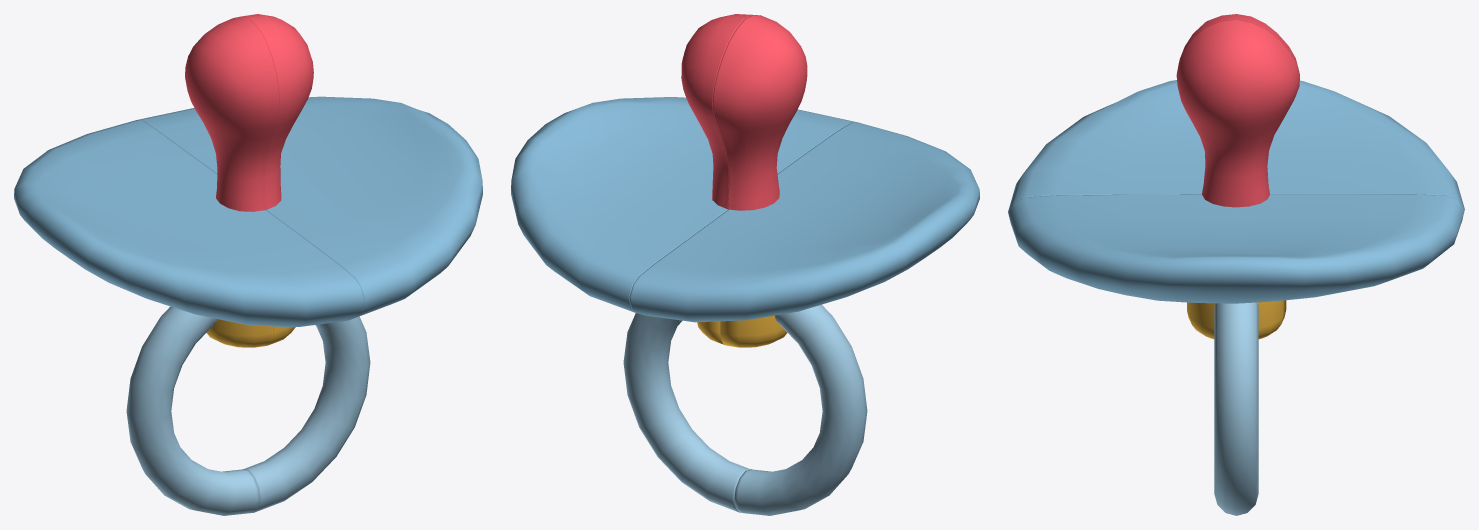
File: SM_Teat_02a.fbx
3 views of the same model, side by side, from view 1: azimuth 30°, elevation 25°; view 2: azimuth 150°, elevation 25°; view 3: azimuth 270°, elevation 25° (orthographic).
Parts seen in each view (by area): view 1: Teat_02, Teat_01; view 2: Teat_02, Teat_01; view 3: Teat_01, Teat_02.
Part boxes in pixels (x1,y1,x2,y2): Teat_02: (14,16,364,515); Teat_01: (137,14,482,512); Teat_02: (629,15,979,515); Teat_01: (511,14,856,512); Teat_01: (1008,19,1464,515); Teat_02: (1008,14,1464,211).
Size of the model in its own units: 42.38 by 49.17 by 41.98.
